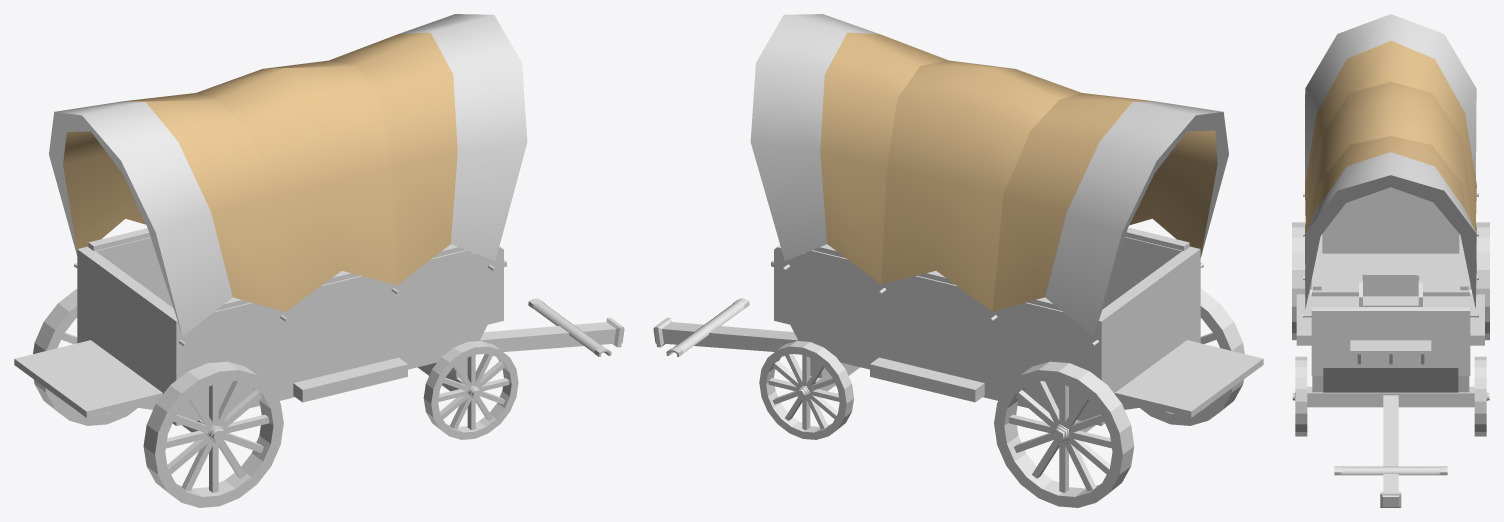
The model's file is Wild_West_Wagon.fbx.
3 renders of one model, left to right at view 1: azimuth 30°, elevation 25°; view 2: azimuth 150°, elevation 25°; view 3: azimuth 270°, elevation 25°, orthographic. The views are drawn at different scales.
Parts seen in each view (by area): view 1: Wild West Wagon, Cylinder, Cylinder.001, Cylinder.002; view 2: Wild West Wagon, Cylinder.002, Cylinder.003, Cylinder; view 3: Wild West Wagon, Cylinder.002, Cylinder, Cylinder.001, Cylinder.003.
Boxes of the visible parts, box(x1,y1,x2,y2) form: Wild West Wagon: box(14, 14, 624, 492); Cylinder: box(143, 361, 283, 507); Cylinder.001: box(423, 341, 518, 439); Cylinder.002: box(33, 289, 137, 425); Wild West Wagon: box(653, 14, 1263, 492); Cylinder.002: box(994, 361, 1134, 507); Cylinder.003: box(759, 341, 853, 439); Cylinder: box(1140, 289, 1244, 425); Wild West Wagon: box(1292, 14, 1489, 507); Cylinder.002: box(1471, 222, 1489, 340); Cylinder: box(1292, 222, 1310, 340); Cylinder.001: box(1295, 356, 1307, 436); Cylinder.003: box(1474, 356, 1486, 436).
Bounding box in the file's own units: 8.83 × 5.4 × 3.32.
